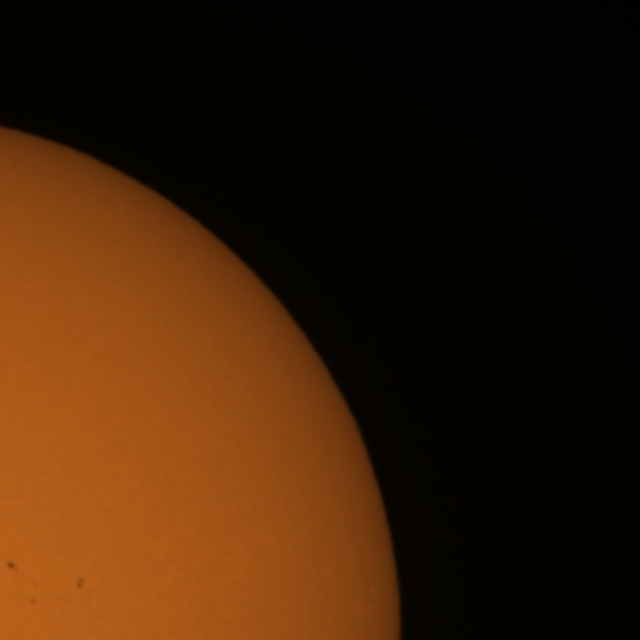sunspot: (5, 559, 19, 574), (74, 574, 86, 590), (28, 596, 38, 608)
